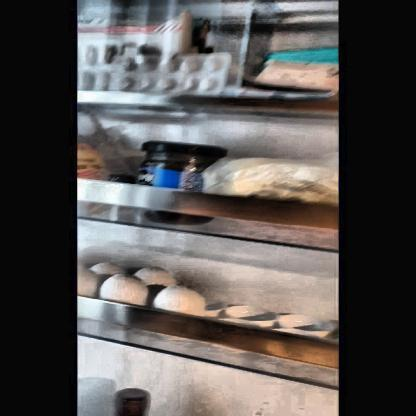eggs: (101, 273, 154, 308), (152, 284, 206, 314), (80, 264, 102, 299)
